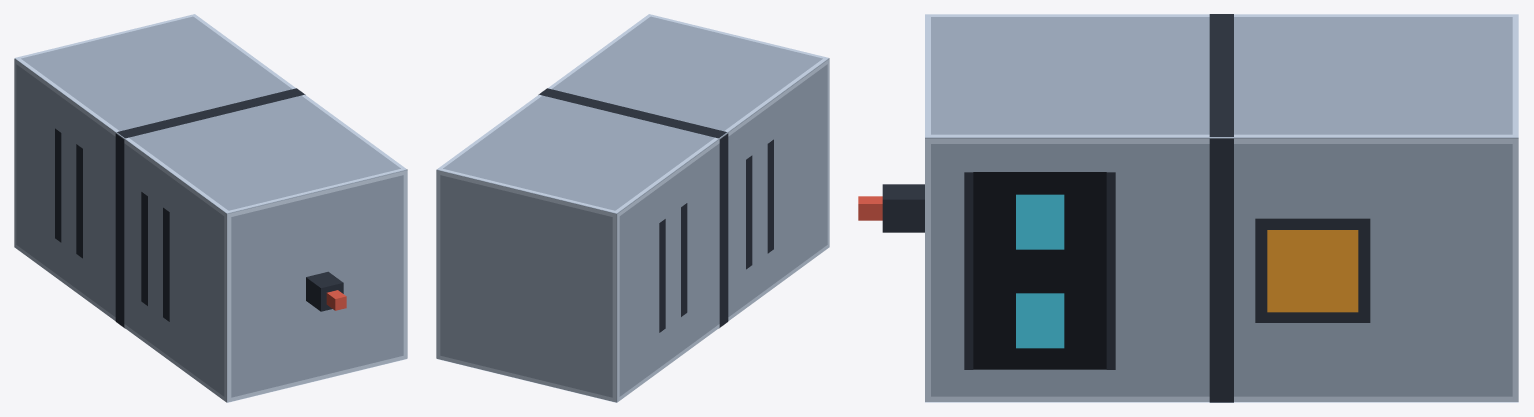
File: robot_whole.obj
3 renders of one model, left to right at view 1: azimuth 30°, elevation 25°; view 2: azimuth 150°, elevation 25°; view 3: azimuth 270°, elevation 25°, orthographic. The views are drawn at different scales.
Visible parts, largest first — view 1: body, decal, antenna; view 2: body, decal; view 3: body, decal, antenna.
Boxes of the visible parts, left/top/right/bottom form: body: left=15, top=16, right=406, bottom=401; decal: left=14, top=14, right=407, bottom=402; antenna: left=306, top=271, right=346, bottom=311; body: left=437, top=16, right=828, bottom=401; decal: left=436, top=14, right=829, bottom=402; body: left=925, top=17, right=1518, bottom=396; decal: left=925, top=14, right=1518, bottom=402; antenna: left=858, top=184, right=924, bottom=232.
Size of the model in its own units: 0.978 by 0.969 by 2.18.
